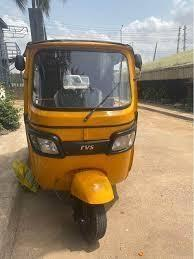keke: (6, 36, 140, 244)
